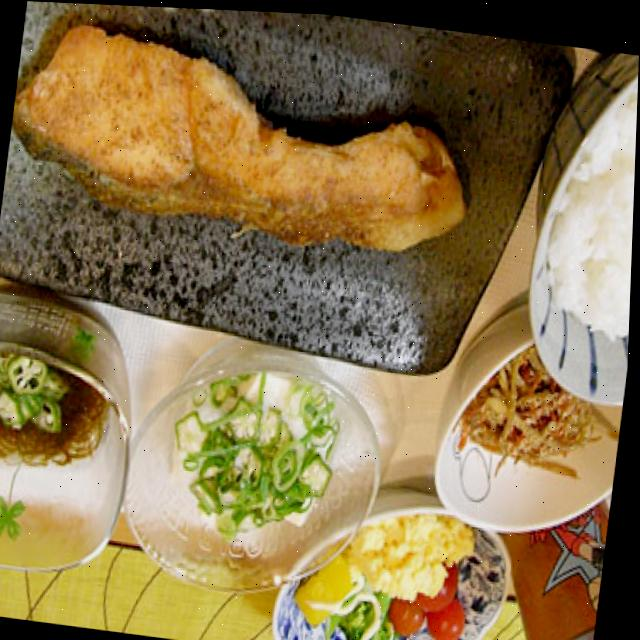熟制海鲜: (0, 9, 482, 315)
